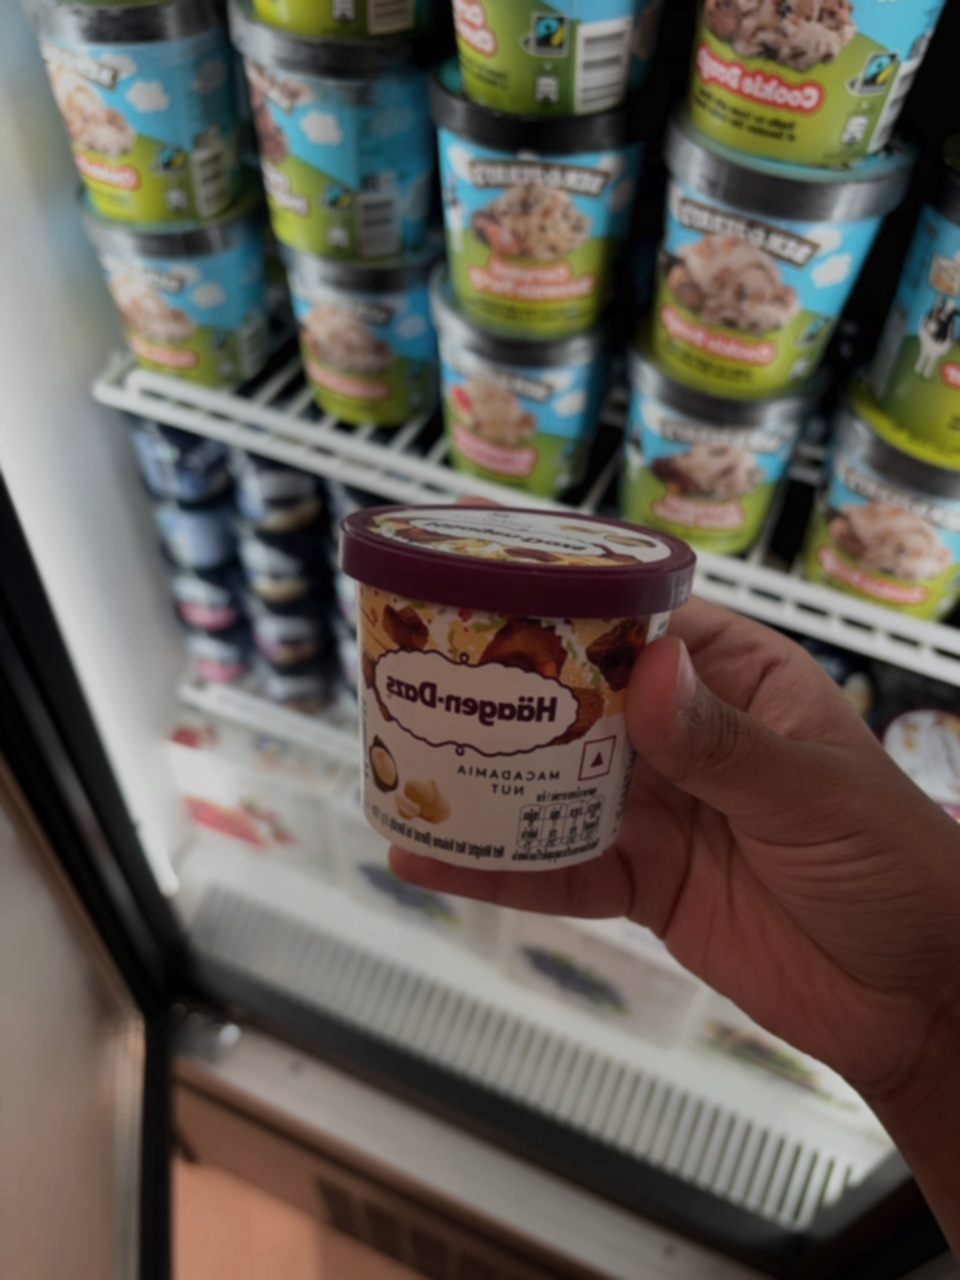Haagen-Dazs IceCream Tub: (325, 496, 743, 916)
